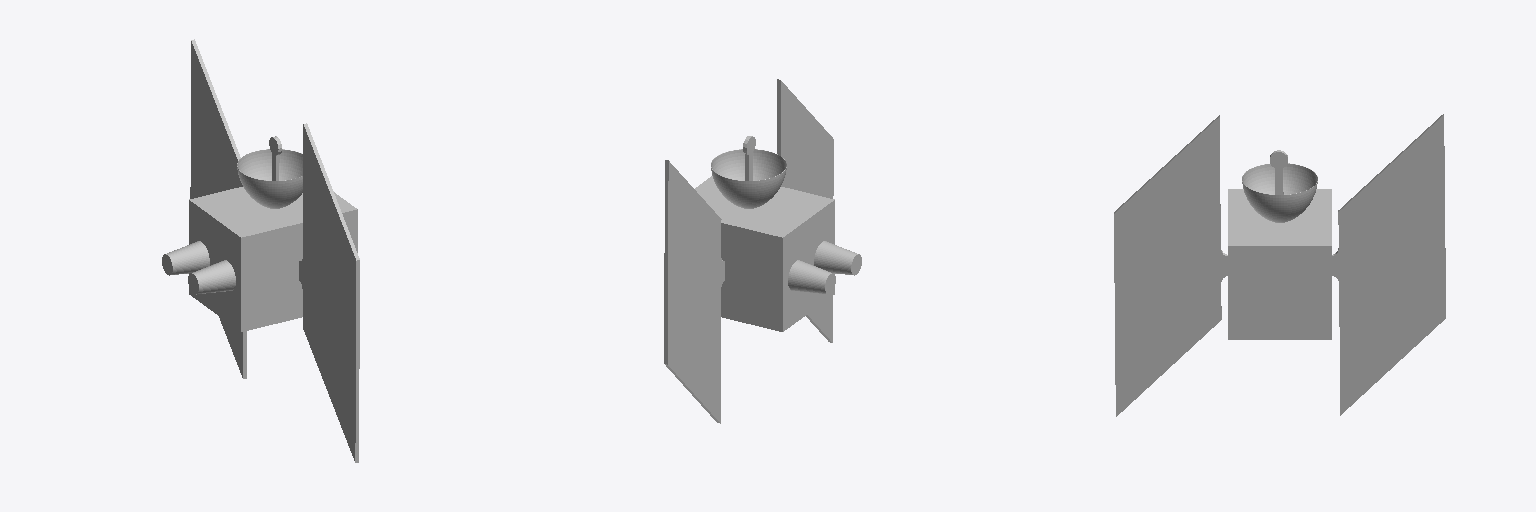
3 renders of one model, left to right at view 1: azimuth 30°, elevation 25°; view 2: azimuth 150°, elevation 25°; view 3: azimuth 270°, elevation 25°, orthographic.
Visible parts, largest first — view 1: Test_Test.001; view 2: Test_Test.001; view 3: Test_Test.001.
Part boxes in pixels (x1,y1,x2,y2): Test_Test.001: (162,39,359,462); Test_Test.001: (664,79,861,423); Test_Test.001: (1114,114,1445,416).
Bounding box in the file's own units: 0.5271 × 1.01 × 1.